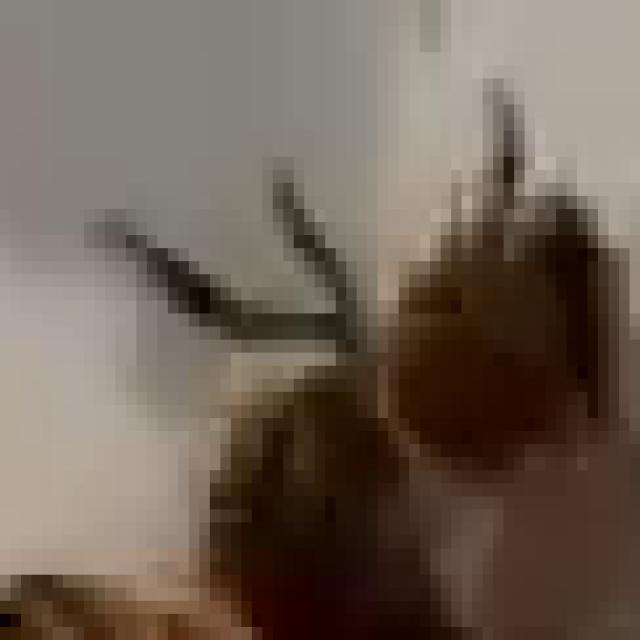honeybee: (157, 117, 618, 640)
